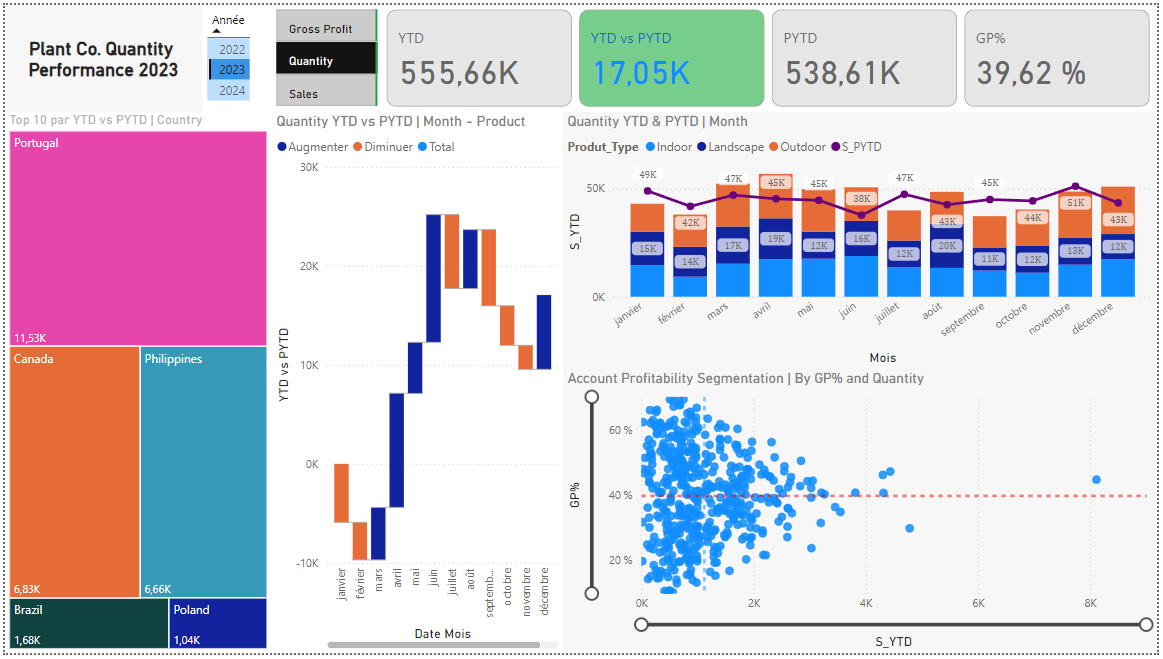

Layout of this report page (visuals, bound fields, positions):
{"tool":"powerbi","page":{"name":"Page 1","canvas":[1280,720],"ordinal":0},"visuals":[{"type":"cardVisual","fields":{"Data":["_Measures.S_YTD","_Measures.YTD vs PYTD","_Measures.S_PYTD","_Measures.GP%"]},"box":[418.8,0,861.2,118.8],"z":0},{"type":"advancedSlicerVisual","fields":{"Values":["Slc_Values.Values"]},"box":[296.2,0,122.5,118.8],"z":1000},{"type":"tableEx","fields":{"Values":["Dim_Date.Date.Variation.Hiérarchie de dates.Année"]},"box":[218.9,0,77.8,118.9],"z":2000},{"type":"treemap","title":"Top 10 par YTD vs PYTD | Country","fields":{"Values":["_Measures.YTD vs PYTD"],"Group":["Dim_Account.country"]},"box":[0,118.8,296.2,601.2],"z":3000},{"type":"waterfallChart","fields":{"Y":["_Measures.YTD vs PYTD"],"Category":["Dim_Date.Date.Variation.Hiérarchie de dates.Mois","Dim_Account.country"]},"box":[296.2,118.8,323.8,601.2],"z":4000},{"type":"lineStackedColumnComboChart","fields":{"Y":["_Measures.S_YTD"],"Y2":["_Measures.S_PYTD"],"Category":["Dim_Date.Date.Variation.Hiérarchie de dates.Trimestre","Dim_Date.Date.Variation.Hiérarchie de dates.Mois"],"Series":["Dim_Product.Produt_Type"]},"box":[620,118.9,660,285.6],"z":5000},{"type":"scatterChart","fields":{"Y":["_Measures.GP%"],"X":["_Measures.S_YTD"],"Category":["Dim_Account.Account"]},"box":[620,404.4,660,315.6],"z":6000},{"type":"card","fields":{"Values":["_Measures._Report title"]},"box":[0,0,218.9,118.9],"z":7000}]}

Visuals, with their boxes in screenshot pixels (x1, y1, x2, y2), scaled from the page's 1280x720 canvas onto the 1163x659 screenshot:
cardVisual - _Measures.S_YTD x _Measures.YTD vs PYTD: x1=381 y1=0 x2=1162 y2=109
advancedSlicerVisual - Slc_Values.Values: x1=269 y1=0 x2=380 y2=109
tableEx - Dim_Date.Date.Variation.Hiérarchie de dates.Année: x1=199 y1=0 x2=270 y2=109
"Top 10 par YTD vs PYTD | Country" treemap: x1=0 y1=109 x2=269 y2=658
waterfallChart - _Measures.YTD vs PYTD x Dim_Date.Date.Variation.Hiérarchie de dates.Mois: x1=269 y1=109 x2=563 y2=658
lineStackedColumnComboChart - _Measures.S_YTD x _Measures.S_PYTD: x1=563 y1=109 x2=1162 y2=370
scatterChart - _Measures.GP% x _Measures.S_YTD: x1=563 y1=370 x2=1162 y2=658
card - _Measures._Report title: x1=0 y1=0 x2=199 y2=109
